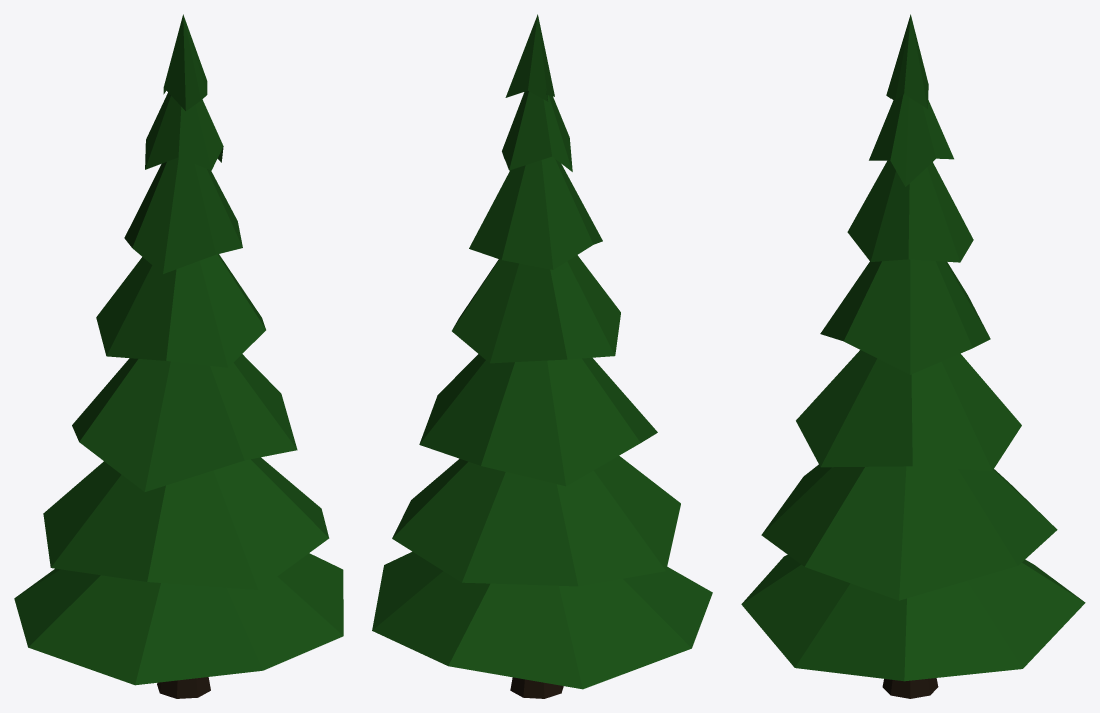
Rendered from ChristmasTree1.fbx.
The picture shows the model from 3 angles, left to right: view 1: azimuth 30°, elevation 25°; view 2: azimuth 150°, elevation 25°; view 3: azimuth 270°, elevation 25°; orthographic projection.
Visible parts, largest first — view 1: Christmas Tree.004; view 2: Christmas Tree.004; view 3: Christmas Tree.004.
Boxes of the visible parts, left/top/right/bottom form: Christmas Tree.004: left=14, top=14, right=343, bottom=698; Christmas Tree.004: left=372, top=14, right=712, bottom=698; Christmas Tree.004: left=741, top=14, right=1085, bottom=698.
Size of the model in its own units: 282 by 583 by 271.
